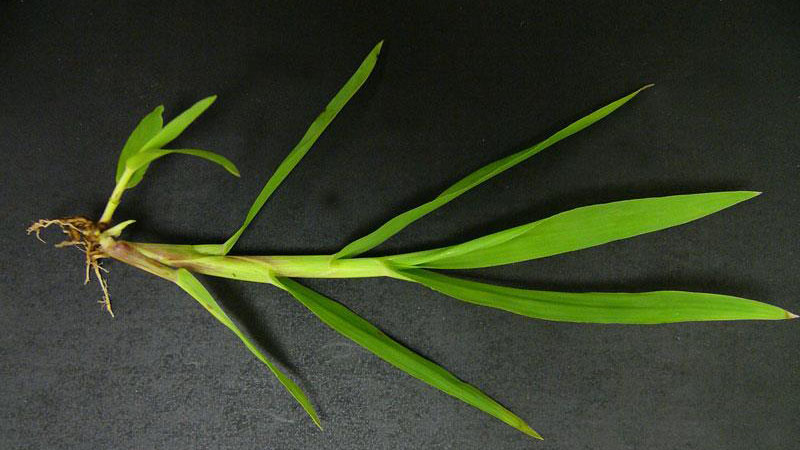crabgrass: (60, 117, 753, 424)
